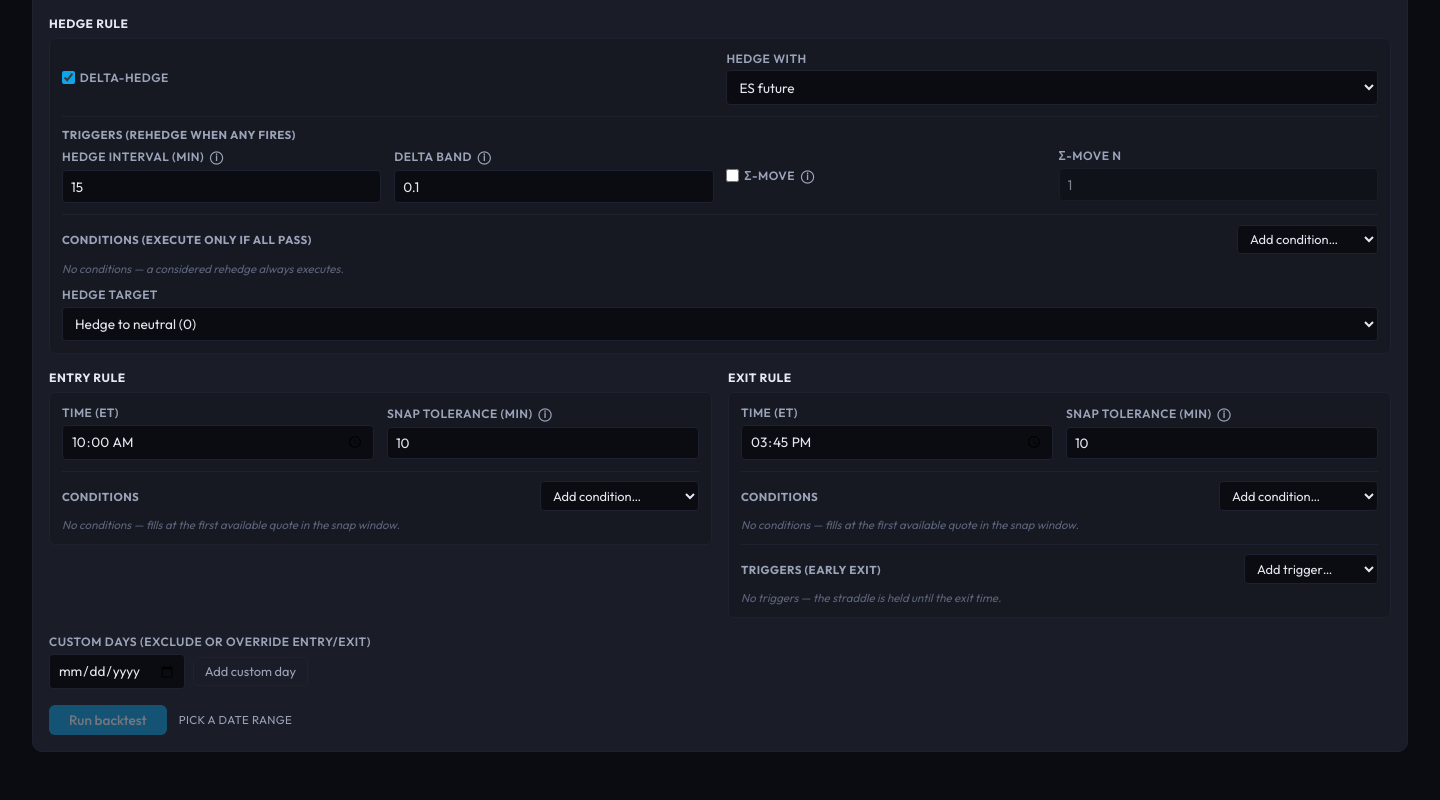
IntradayBacktestPage › hides the per-day override toggle when a custom day is excluded
The image size is (1440, 800).
(page scrolled)
Type "2025-02-17" into the date field with test id "custom-day-input" at (117, 671), box [49,654,185,689]
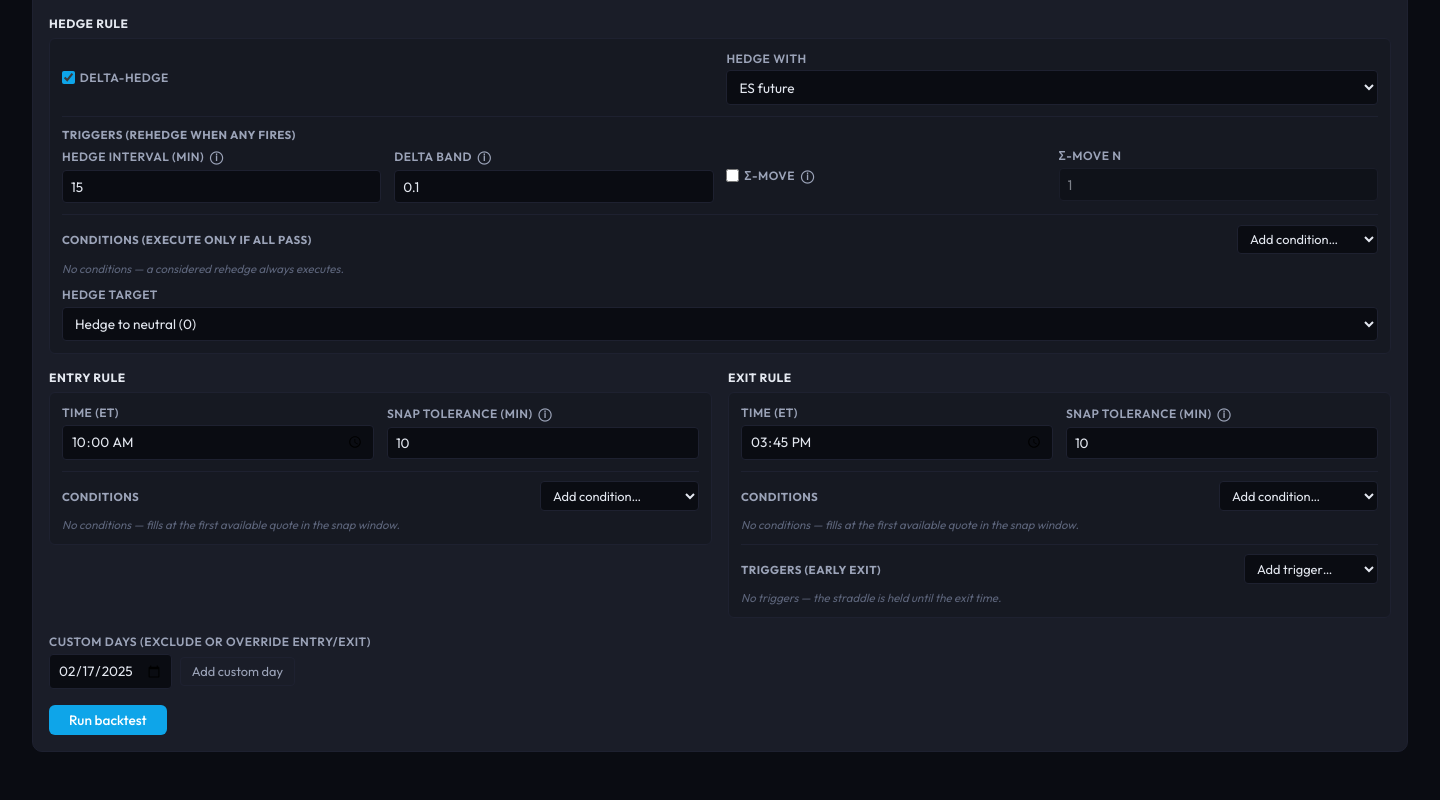
Click the button with test id "add-custom-day" at (237, 671), box [180,657,295,686]
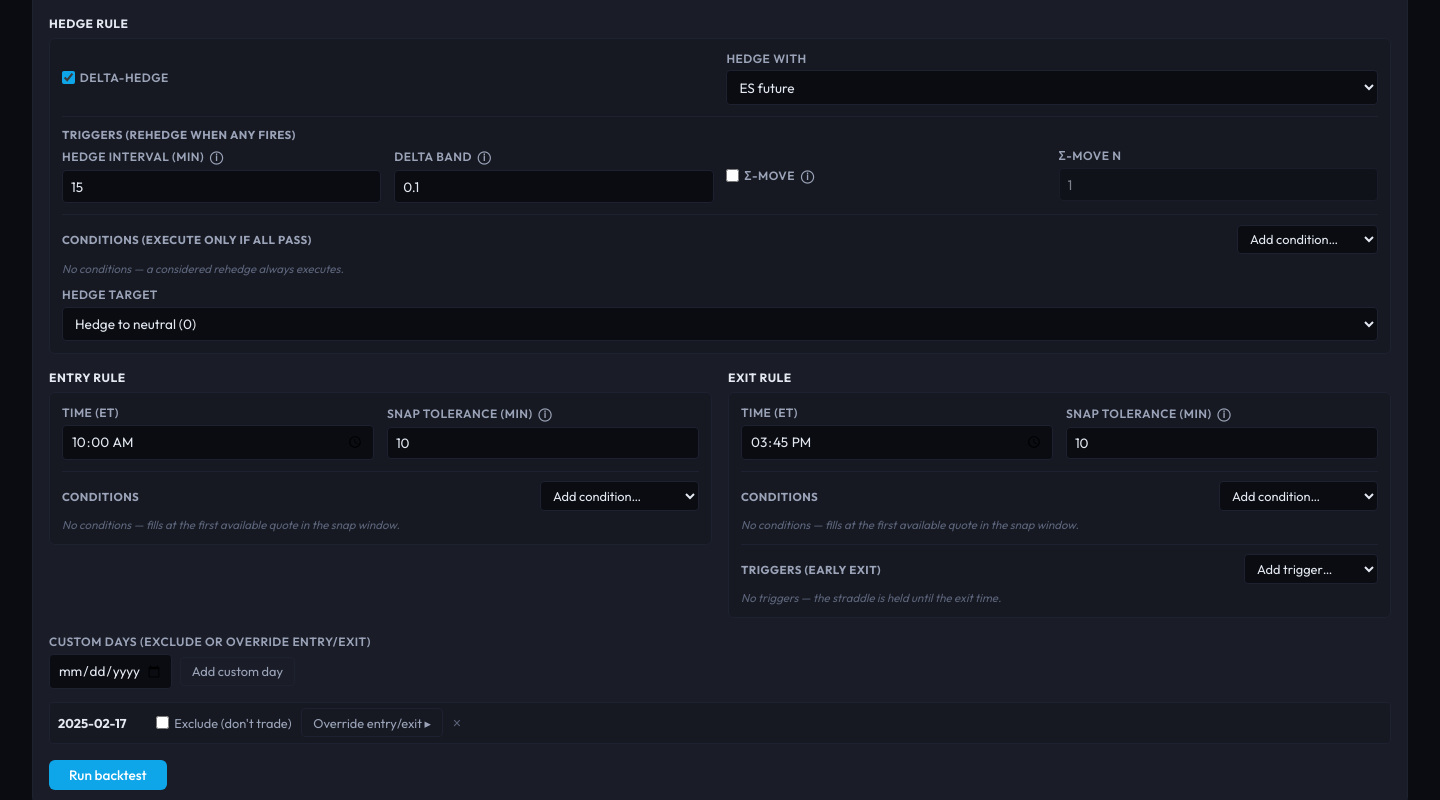
Now the button with test id "custom-day-toggle-2025-02-17" is shown, box [301,708,443,737]
# Toggle Exclude → the day won't be traded, so no entry/exit override.
Click the checkbox named "Exclude 2025-02-17" at (162, 723), box [156,716,169,729]
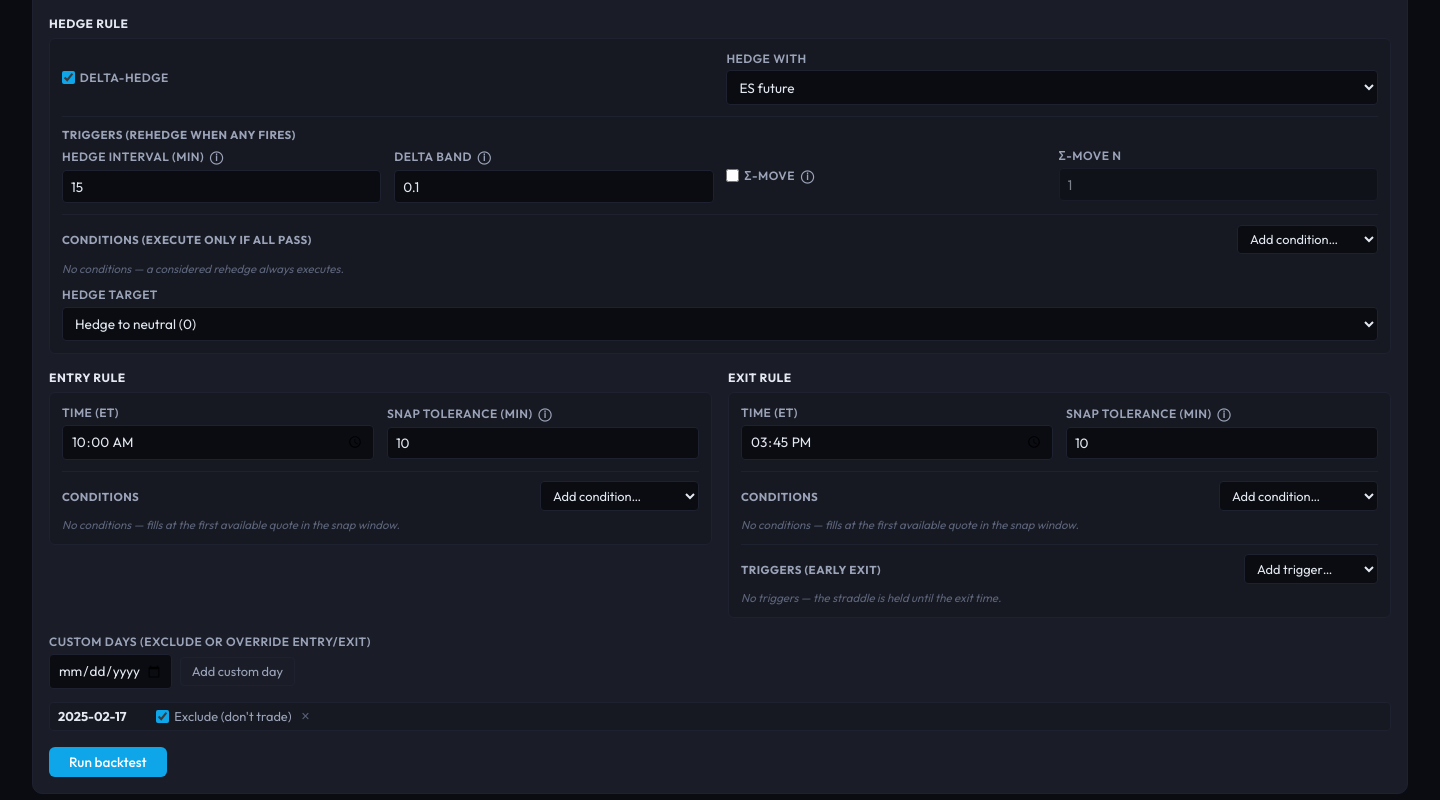
Now the button with test id "custom-day-toggle-2025-02-17" is gone
